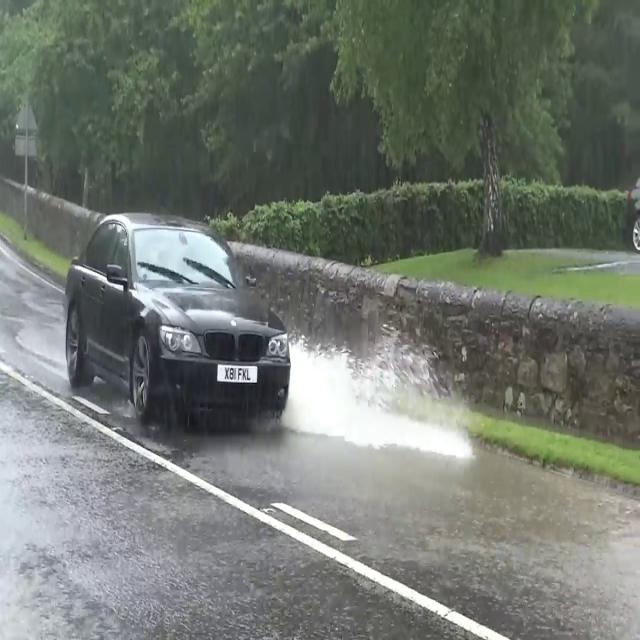license-plate-annotation: (219, 364, 258, 386)
